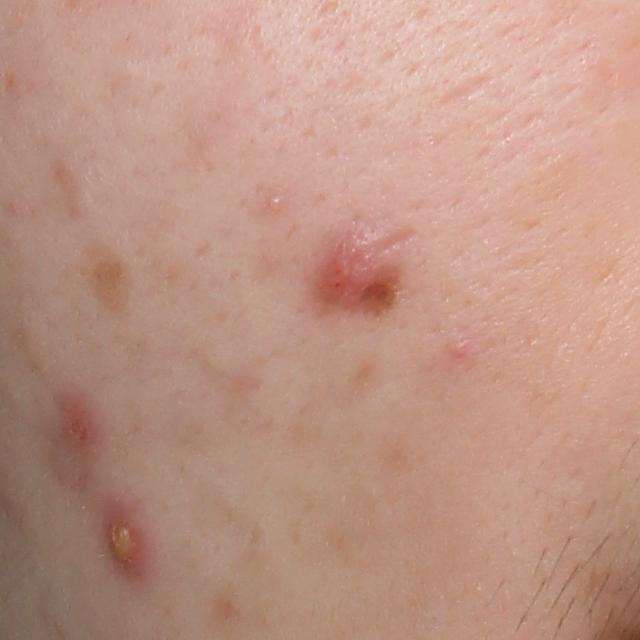papule: (314, 228, 401, 315), (59, 395, 102, 448)
pustule: (98, 494, 157, 586)
